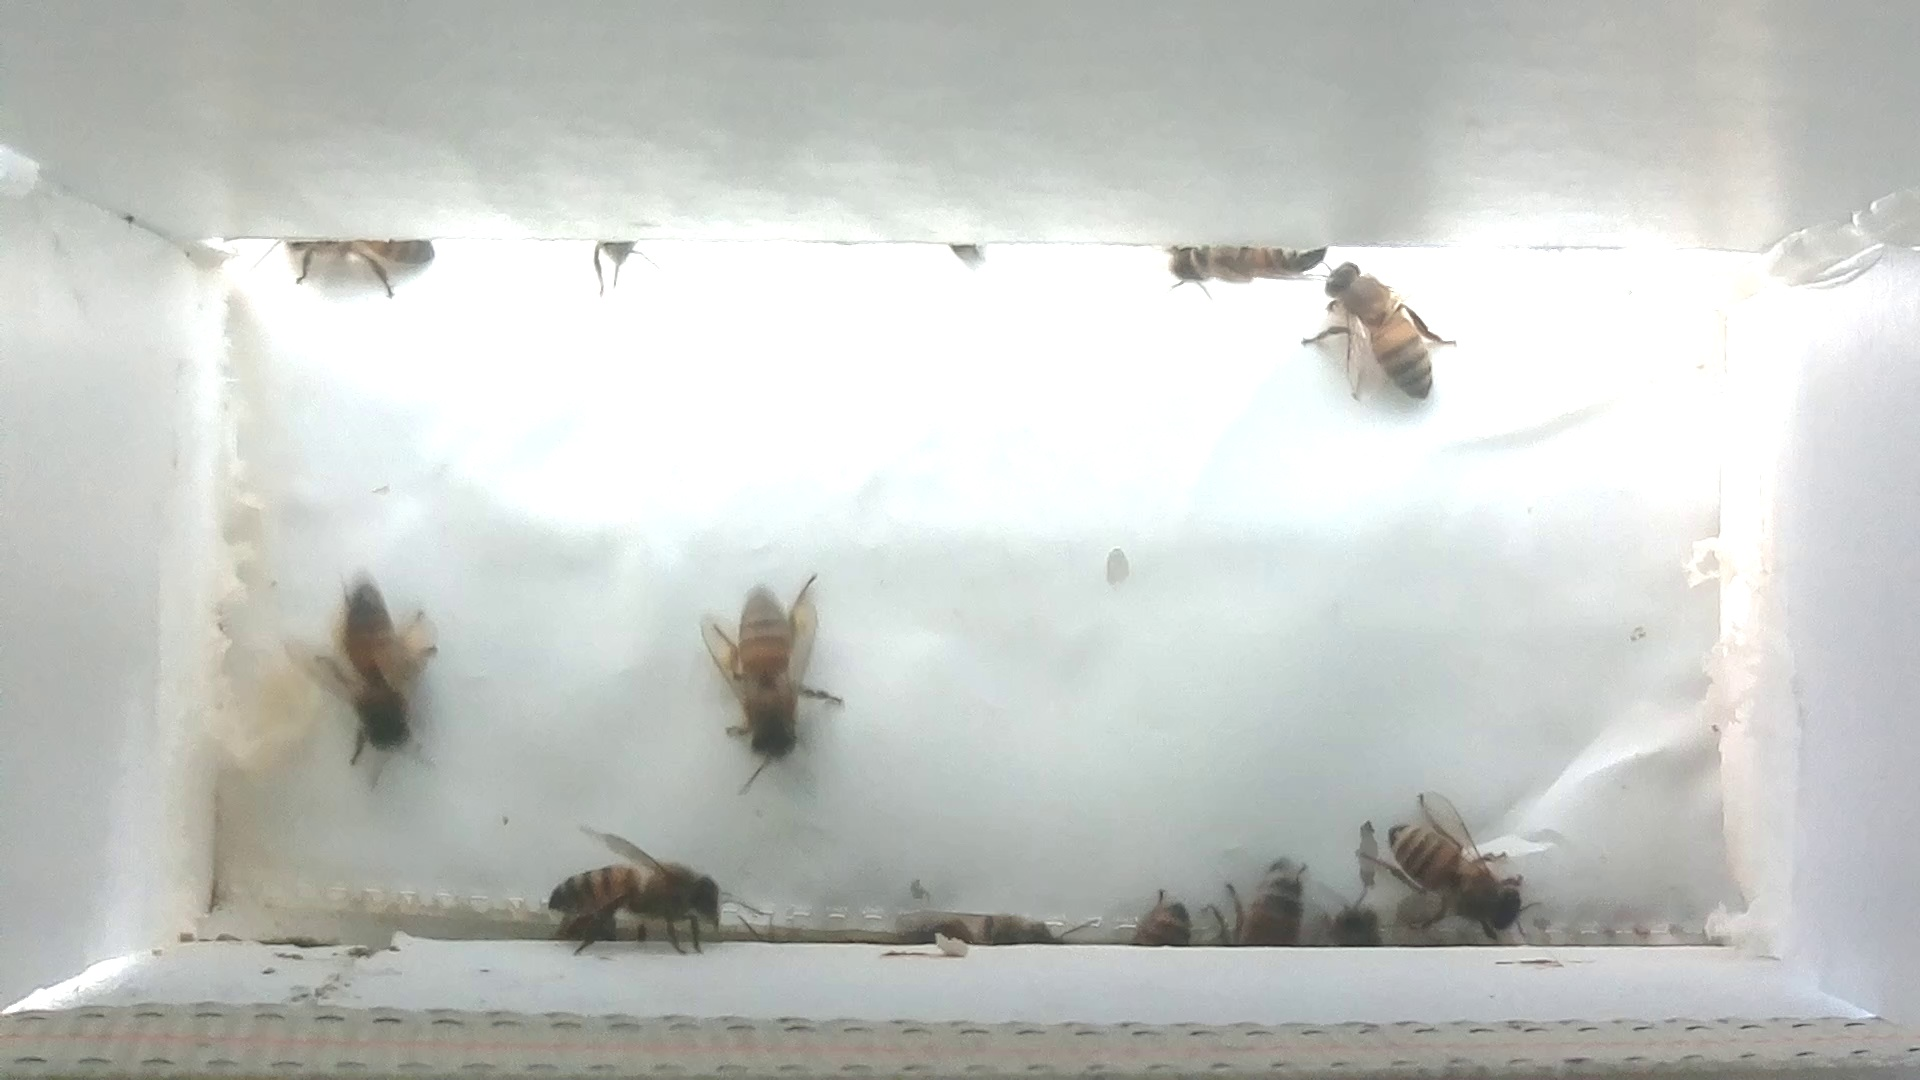bee: (686, 570, 851, 795), (1288, 241, 1468, 436), (284, 564, 454, 769), (541, 814, 769, 963), (1360, 781, 1539, 951), (1205, 851, 1325, 971), (1159, 229, 1333, 306), (270, 229, 443, 301), (1120, 890, 1200, 959), (1319, 884, 1385, 959)
